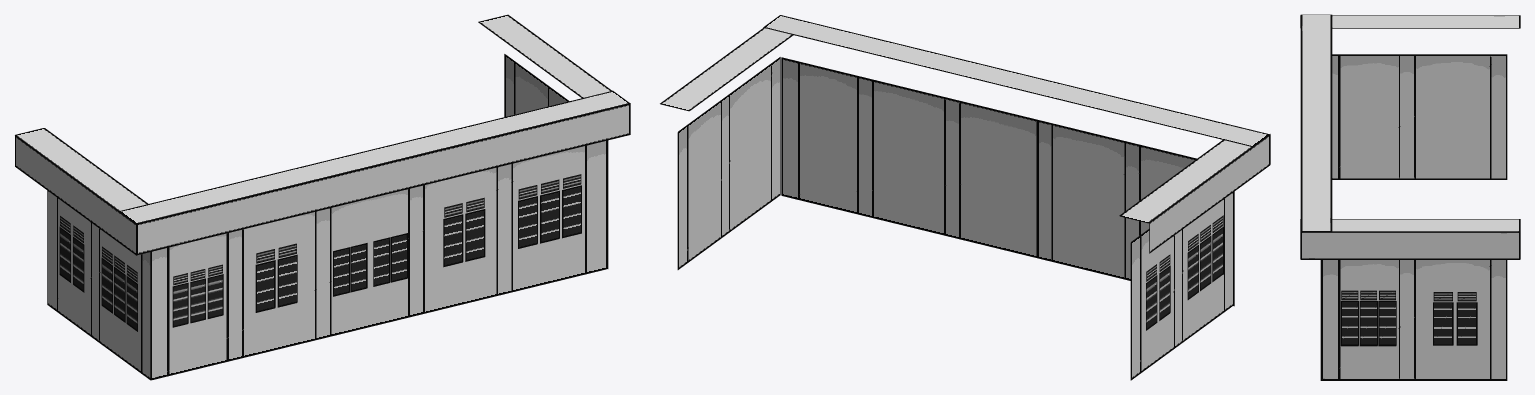
Rendered from Middle Middle Part.gltf.
3 renders of one model, left to right at view 1: azimuth 30°, elevation 25°; view 2: azimuth 150°, elevation 25°; view 3: azimuth 270°, elevation 25°, orthographic. The views are drawn at different scales.
Parts seen in each view (by area): view 1: default; view 2: default; view 3: default.
Boxes of the visible parts, x1=… form: default: x1=15, y1=14, x2=630, y2=380; default: x1=660, y1=15, x2=1270, y2=380; default: x1=1300, y1=14, x2=1520, y2=380.
Size of the model in its own units: 65.88 by 21.88 by 28.37.
Materials: 1 (1 with a texture image).
